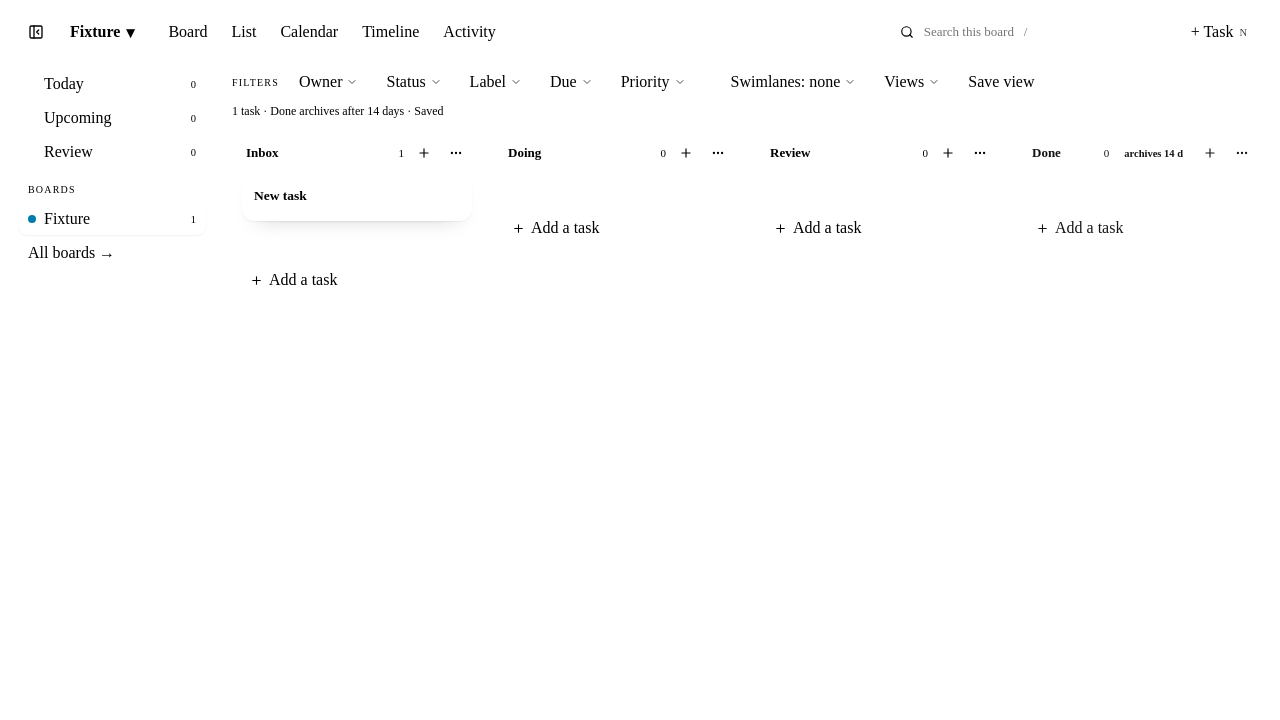
Test: reports a failed Today settings write without pretending the choice was saved
This screenshot has width=1280, height=720.
Click the button "Today 0". click: (112, 84)
box: [18, 68, 206, 100]
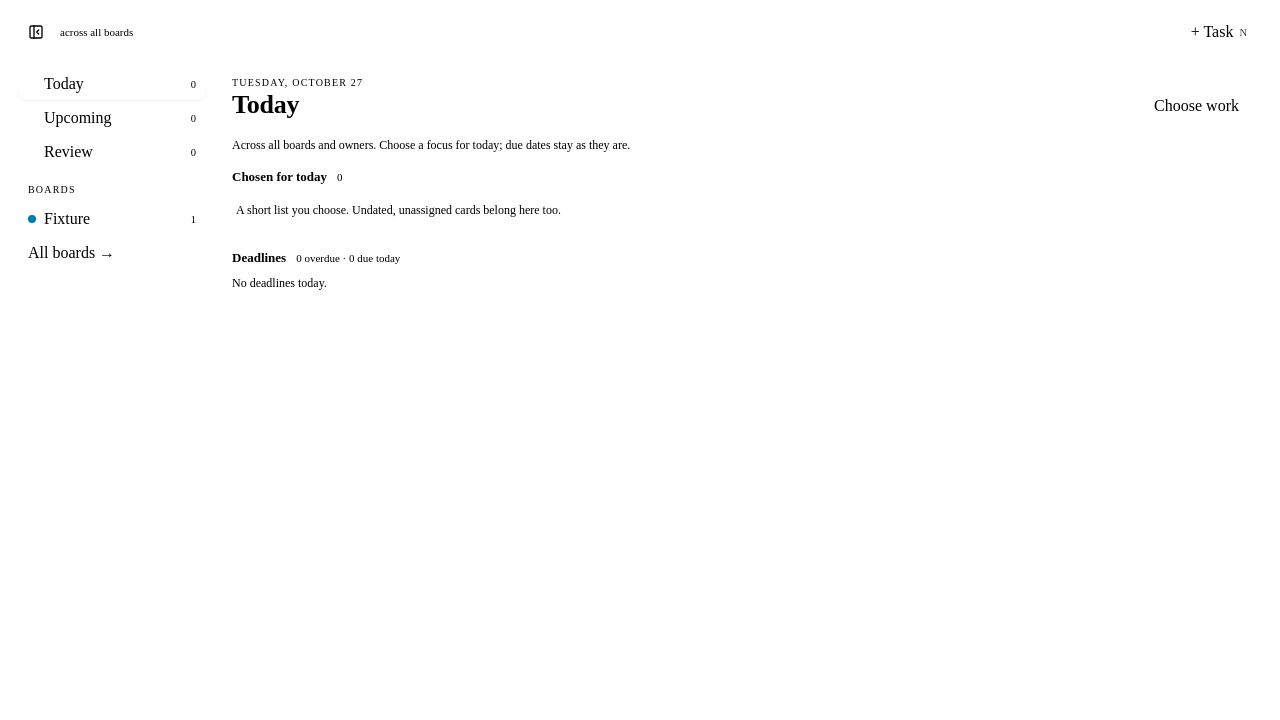
Click the button "Choose work". click: (1197, 106)
box: [1143, 92, 1250, 120]
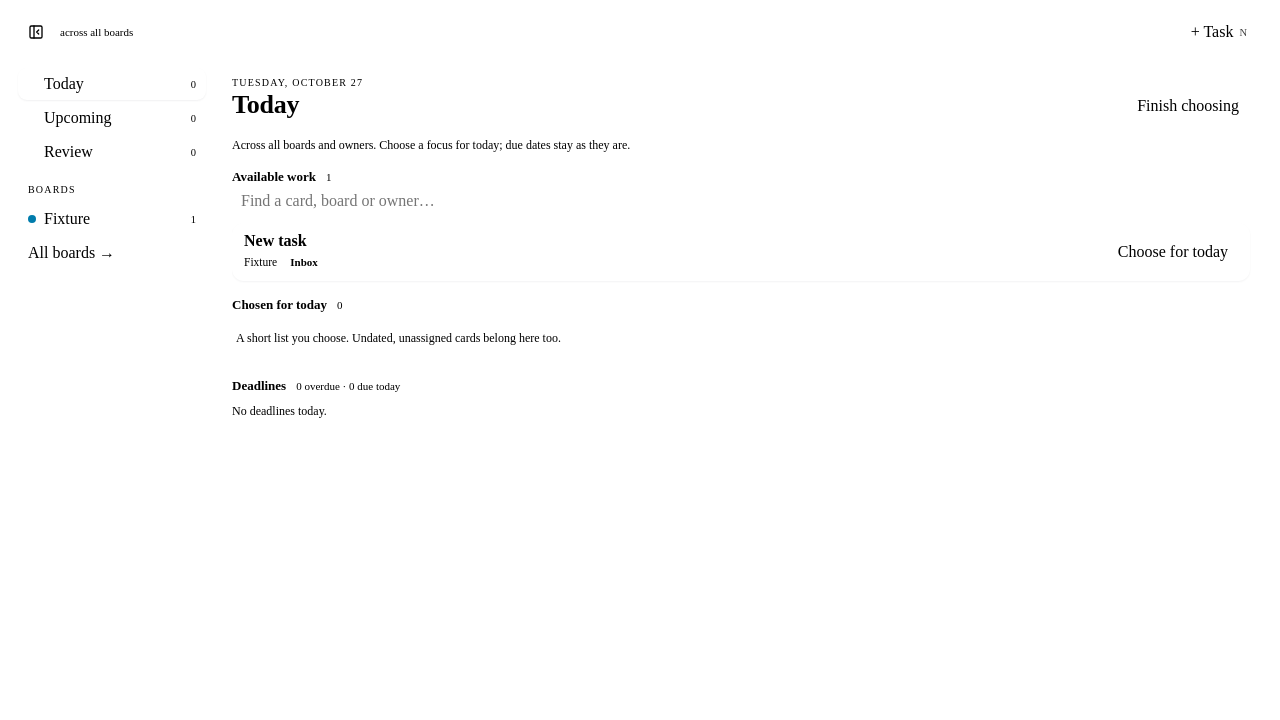
Click the button "Choose for today". click: (1173, 252)
box: [1108, 238, 1238, 266]
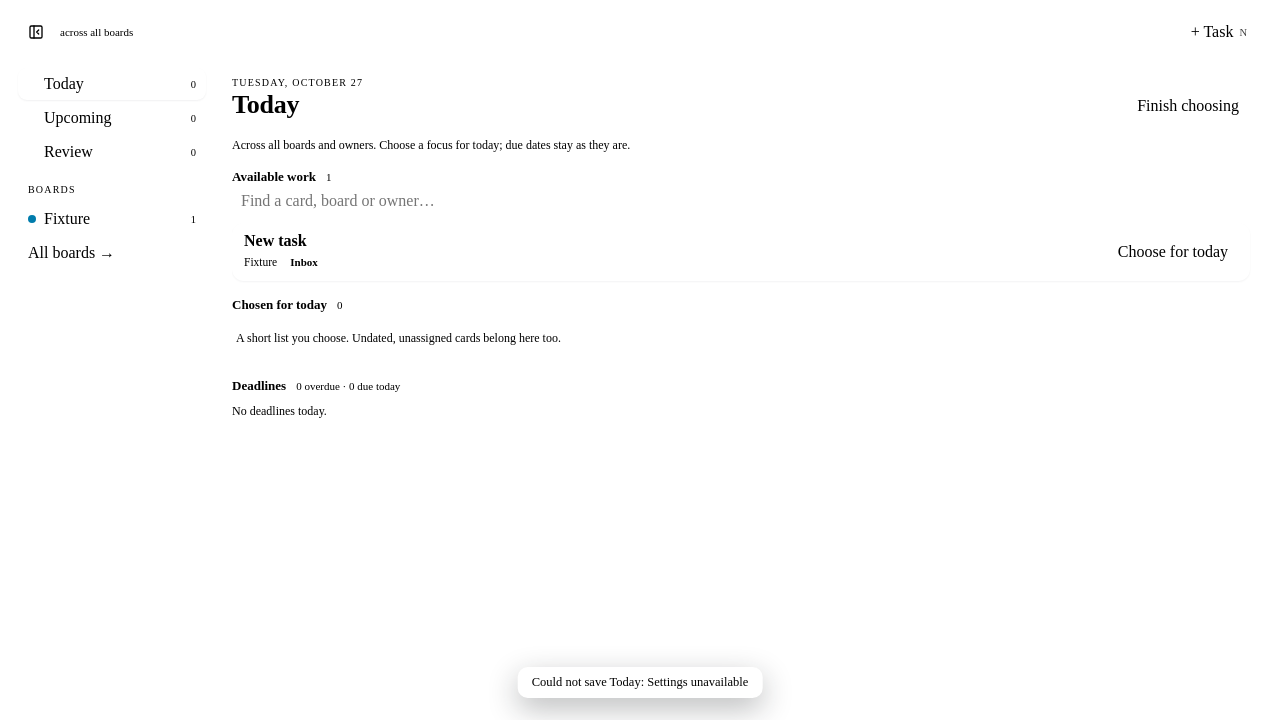
Result: the message "Could not save Today: Settings unavailable" is shown at [518, 667, 762, 698]
